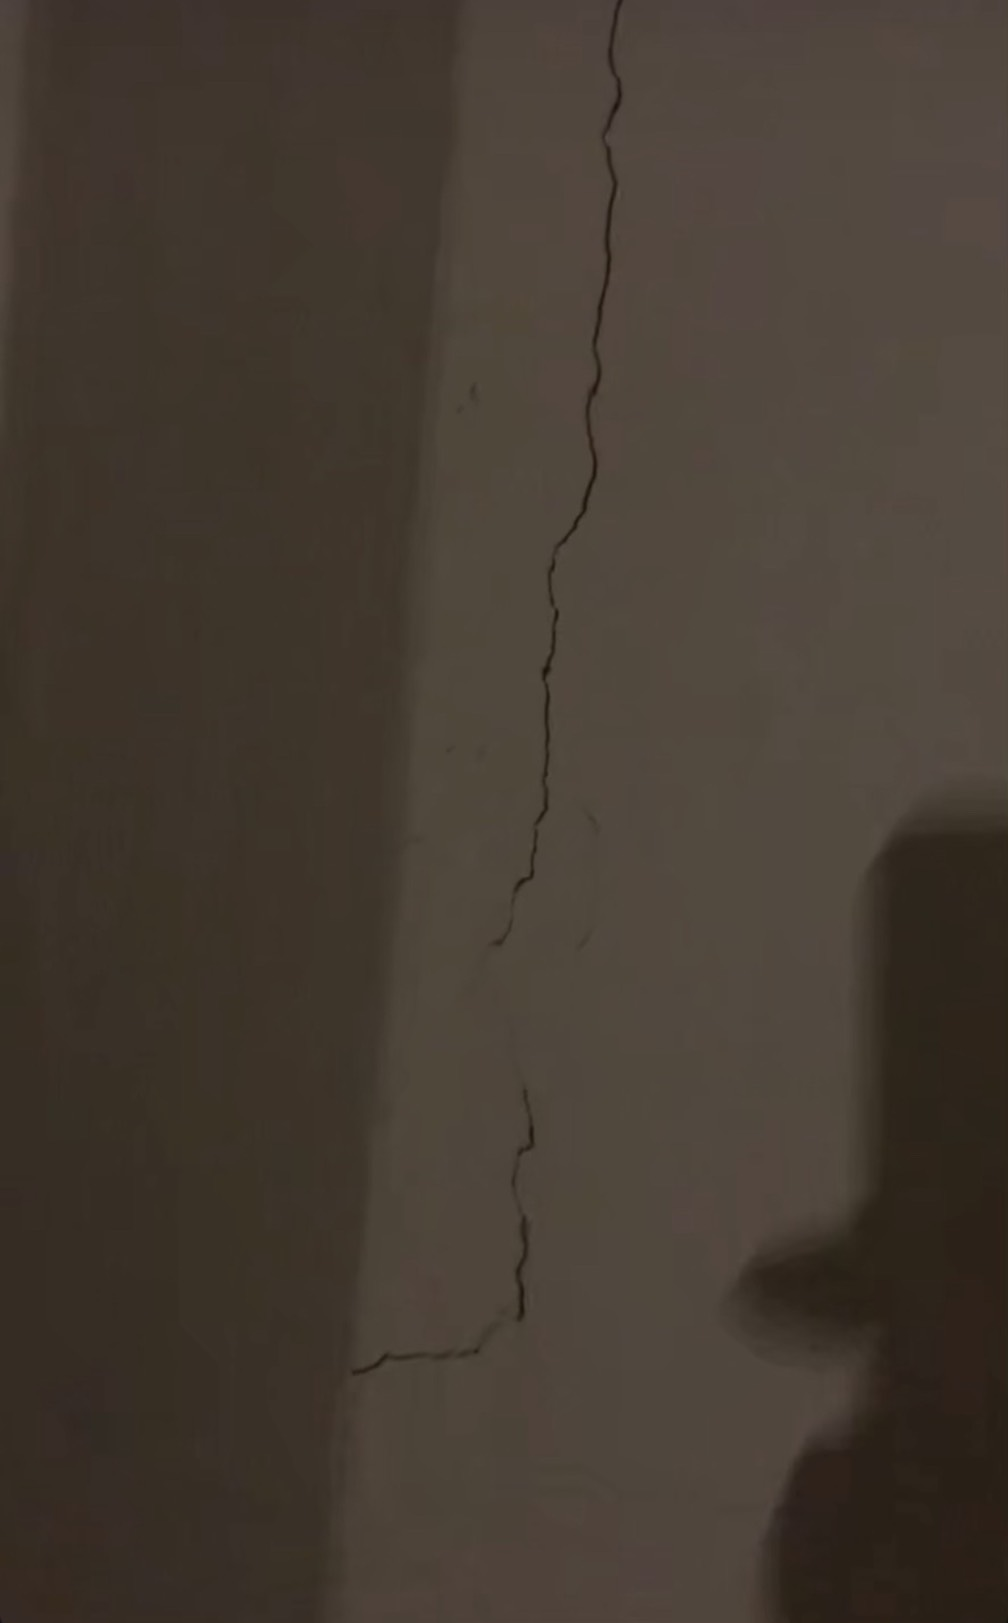Low: (316, 1, 722, 1449)
